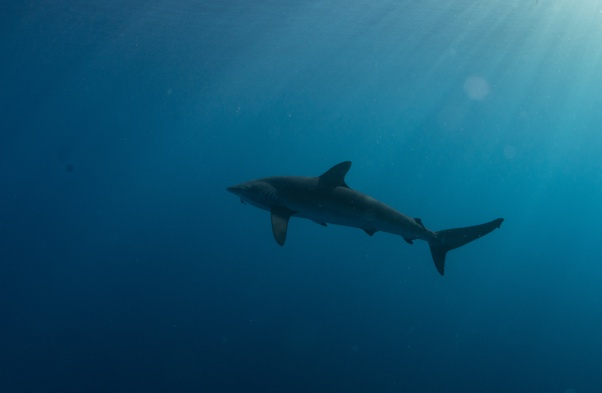Sedoso: (214, 155, 511, 283)
